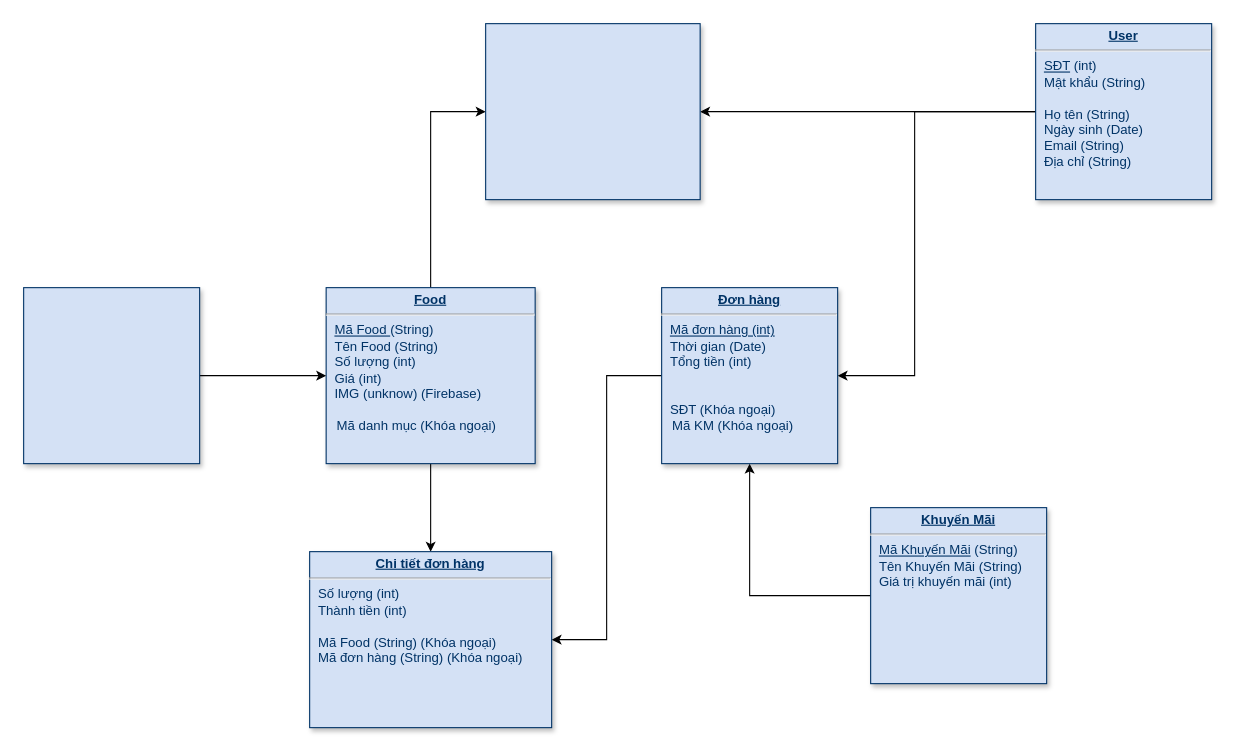
Some shapes in this 1238 by 755 pixel diagram are drawn without their labels. The shapes that lost their labels are listed below. From the top down, each one's centre as x and y in pixels, then its label:
At (593,112): "Giỏ hàng SĐT (Khóa ngoại) Mã Food (Khóa ngoại) Số lượng (int)".
At (112,376): "Danh mục Food Mã danh mục (String) Tên danh mục (String)".
